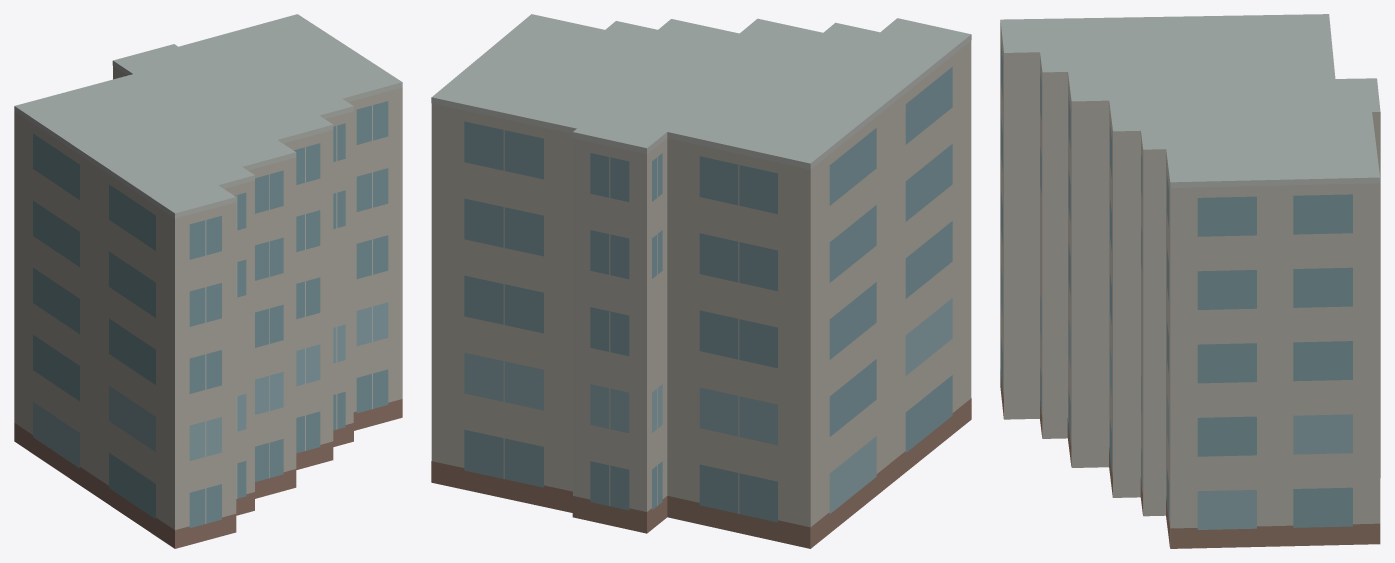
Rendered from survey-upis-33014076.glb.
The picture shows the model from 3 angles, left to right: view 1: azimuth 30°, elevation 25°; view 2: azimuth 150°, elevation 25°; view 3: azimuth 270°, elevation 25°; orthographic projection. The views are drawn at different scales.
Parts seen in each view (by area): view 1: survey-upis-33014076.tmp; view 2: survey-upis-33014076.tmp; view 3: survey-upis-33014076.tmp.
Boxes of the visible parts, left/top/right/bottom form: survey-upis-33014076.tmp: left=14, top=14, right=402, bottom=548; survey-upis-33014076.tmp: left=431, top=14, right=971, bottom=548; survey-upis-33014076.tmp: left=1000, top=14, right=1380, bottom=548.
Bounding box in the file's own units: 15.32 × 15.55 × 14.62.
